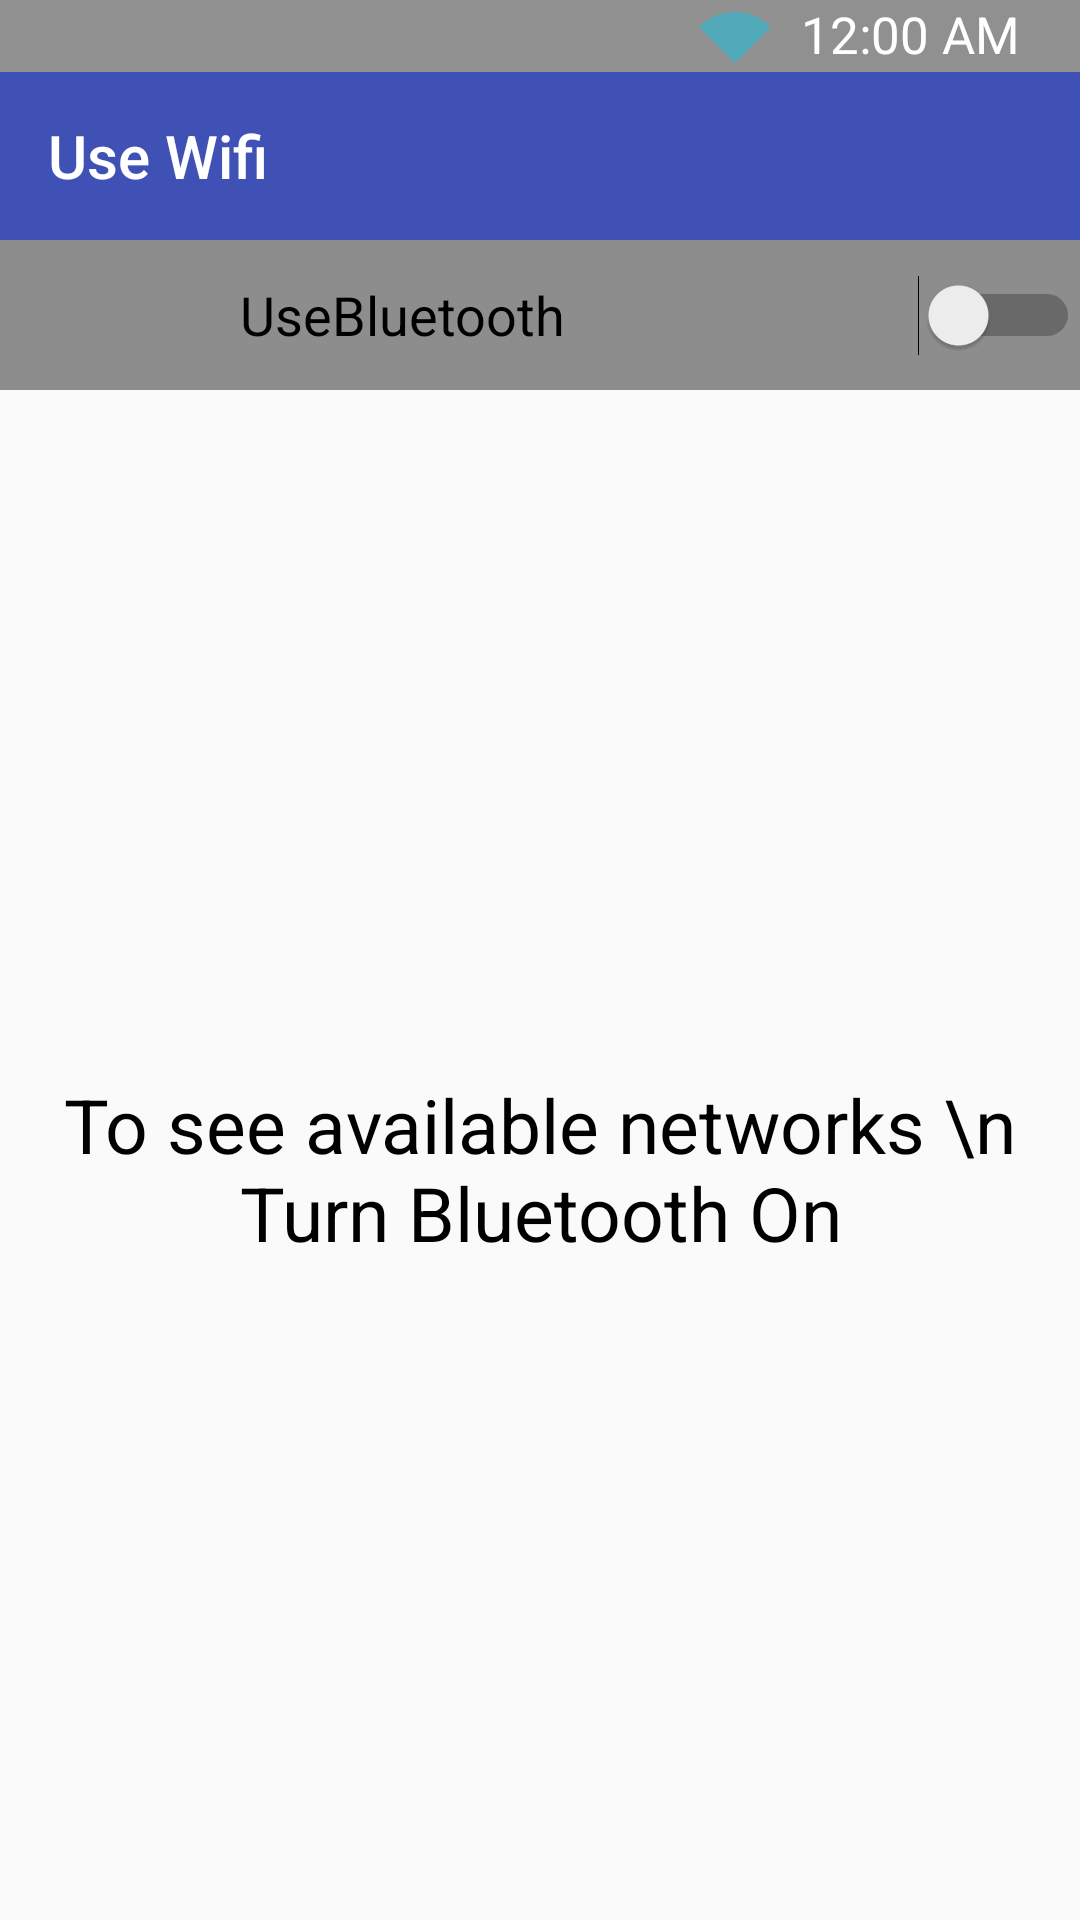

Where icons sit on this 1080px×1920px app screen, as (x1=x1, y1=y1, x2=x2, y2=y2):
wifi: (x1=699, y1=12, x2=771, y2=63)
